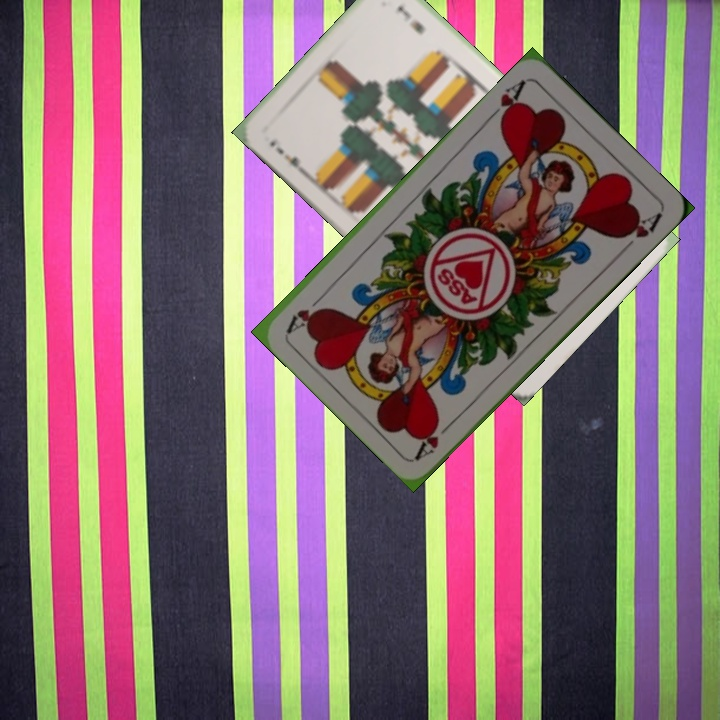E7: (265, 134, 310, 178)
HA: (484, 75, 528, 127), (412, 414, 459, 461)
